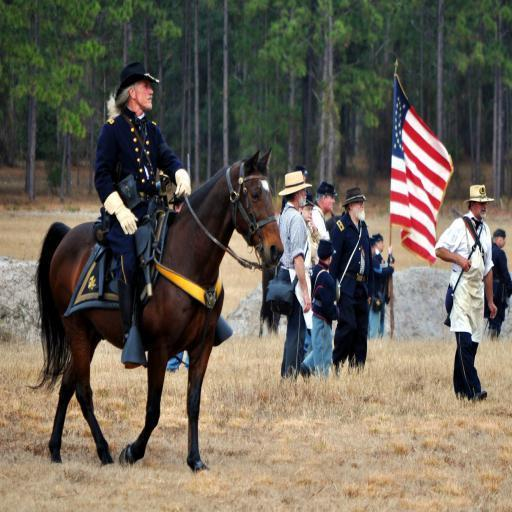horse: (24, 146, 284, 474)
